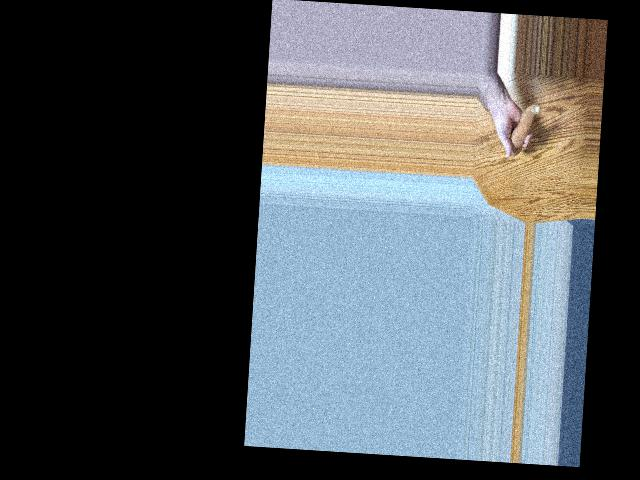sweet_potato: (507, 100, 539, 156)
